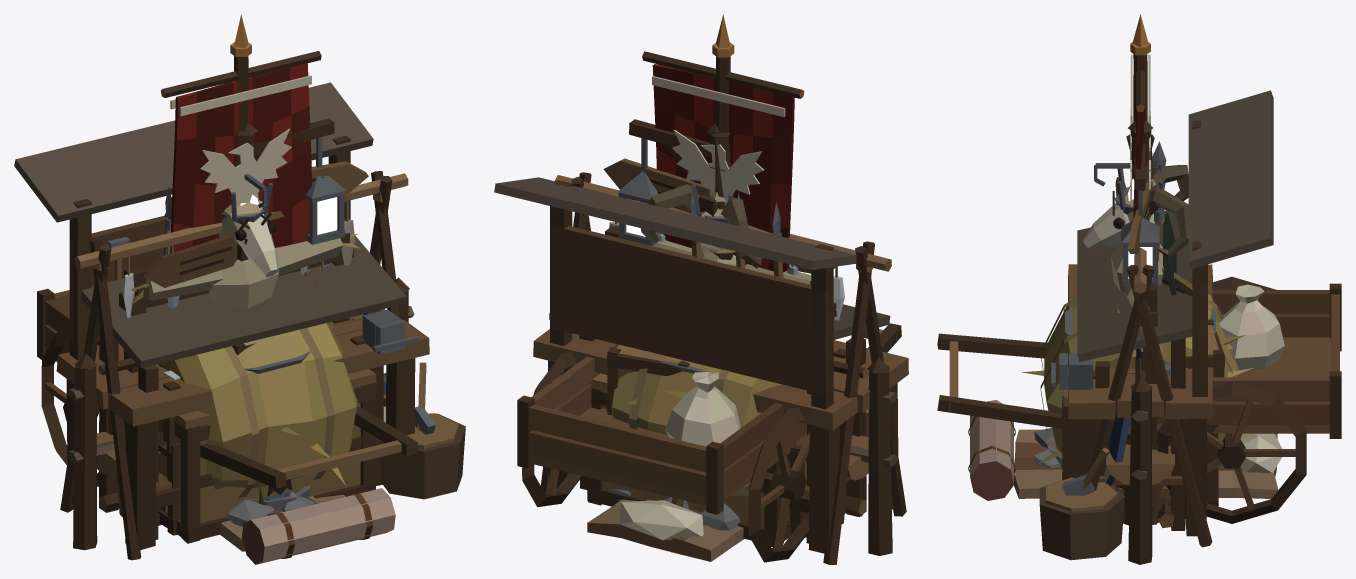
File: props.glb
3 views of the same model, side by side, from view 1: azimuth 30°, elevation 25°; view 2: azimuth 150°, elevation 25°; view 3: azimuth 270°, elevation 25° (orthographic). The views are drawn at different scales.
Visible parts, largest first — view 1: workbench, wood_pile, banner, hay_bale, drying_rack, cart, shipping_crate, bed_roll, scarecrow, fence_wood, signpost, lantern_post (+7 smaller); view 2: workbench, cart, banner, drying_rack, hay_bale, bed_roll, fence_wood, lantern_post, shipping_crate, wood_pile, signpost, skull_pike (+5 smaller); view 3: cart, workbench, wood_pile, bed_roll, drying_rack, hay_bale, fence_wood, skull_pike, banner, weapon_rack, lantern_post, bench (+5 smaller).
Boxes of the visible parts, <box> form: workbench: <box>14,82,429,550</box>; wood_pile: <box>81,235,465,539</box>; banner: <box>160,14,321,253</box>; hay_bale: <box>158,282,357,498</box>; drying_rack: <box>60,171,408,560</box>; cart: <box>37,288,418,488</box>; shipping_crate: <box>174,382,376,543</box>; bed_roll: <box>220,488,395,564</box>; scarecrow: <box>121,200,361,308</box>; fence_wood: <box>68,277,414,550</box>; signpost: <box>143,161,368,505</box>; lantern_post: <box>236,118,345,244</box>; workbench: <box>494,177,908,553</box>; cart: <box>517,323,901,562</box>; banner: <box>642,14,804,272</box>; drying_rack: <box>540,172,906,564</box>; hay_bale: <box>611,351,781,502</box>; bed_roll: <box>587,409,868,561</box>; fence_wood: <box>549,313,898,555</box>; lantern_post: <box>617,119,733,259</box>; shipping_crate: <box>587,387,791,547</box>; wood_pile: <box>579,304,890,543</box>; signpost: <box>603,158,835,273</box>; skull_pike: <box>641,184,761,268</box>; cart: <box>937,276,1341,523</box>; workbench: <box>1051,90,1273,536</box>; wood_pile: <box>1039,210,1192,560</box>; bed_roll: <box>968,400,1282,500</box>; drying_rack: <box>1088,134,1212,547</box>; hay_bale: <box>1022,294,1257,463</box>; fence_wood: <box>1128,377,1152,564</box>; skull_pike: <box>1083,165,1189,258</box>; banner: <box>1130,14,1150,219</box>; weapon_rack: <box>1104,141,1169,524</box>; lantern_post: <box>1121,120,1159,286</box>; bench: <box>1106,444,1174,525</box>.
Bounding box in the file's own units: 2.29 × 3.07 × 2.34.
